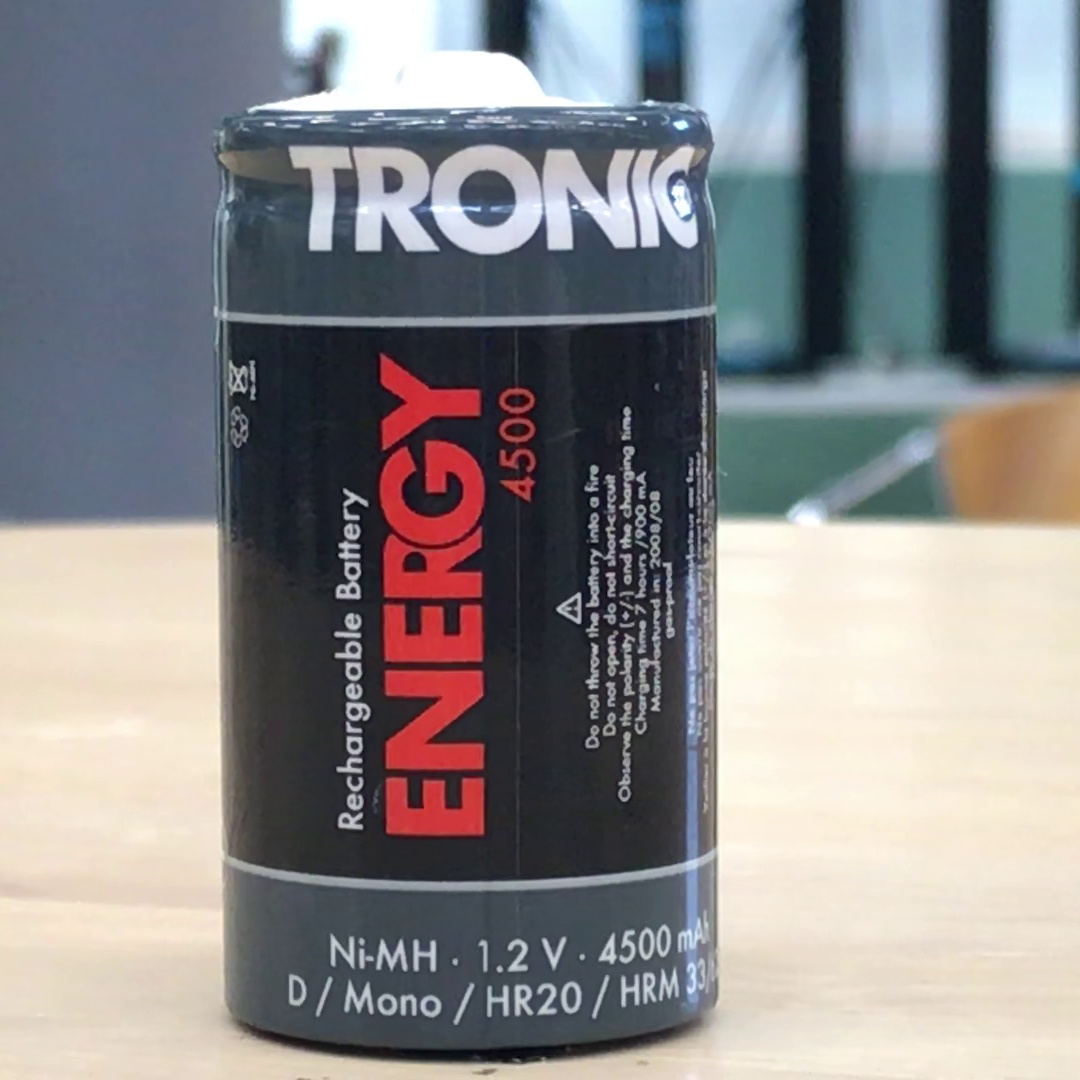keyword: (478, 972, 584, 1026), (321, 930, 440, 978), (469, 927, 572, 981)
